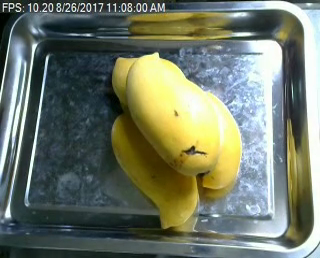Mango: (124, 52, 221, 175), (107, 112, 199, 233), (176, 84, 244, 193)
